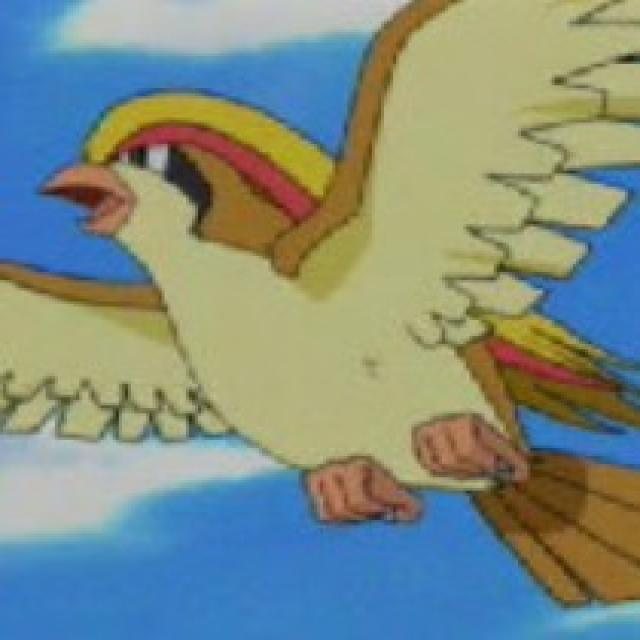Pidgeot: (0, 84, 596, 526)
